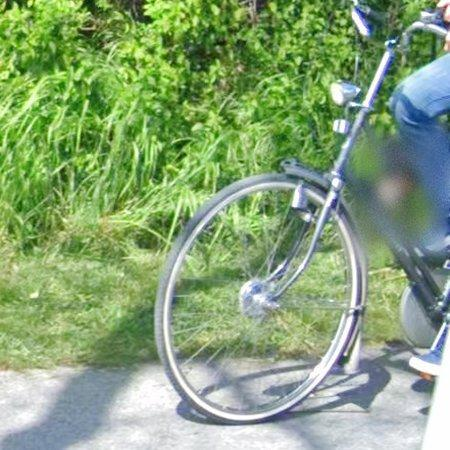bicycles: (155, 12, 448, 423), (392, 238, 450, 347)
